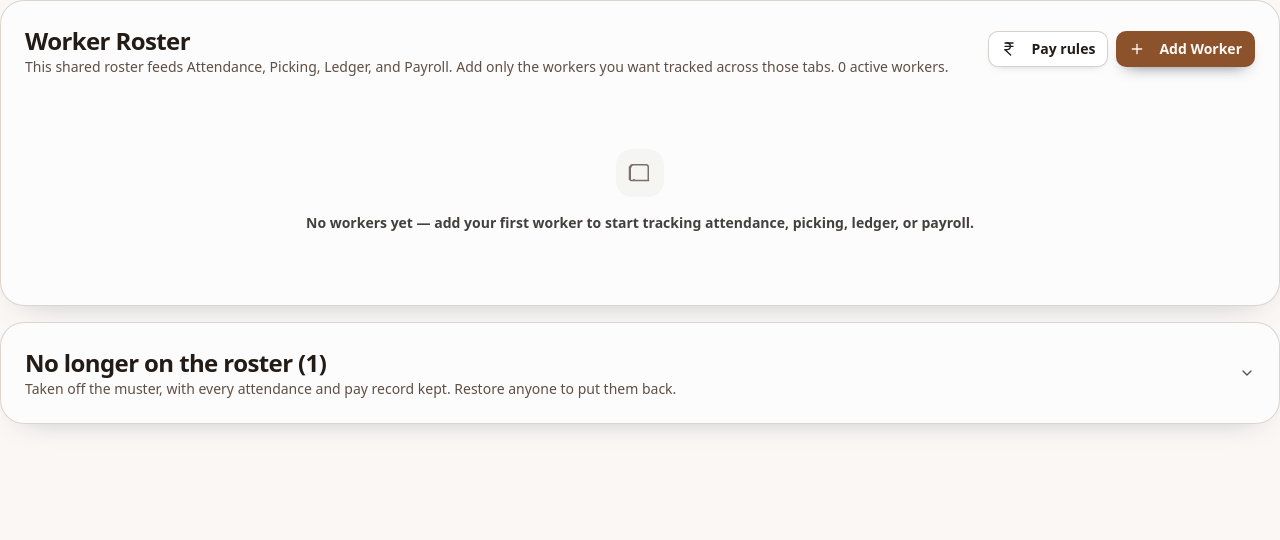
Test case: a worker taken off the roster can be found and put back › refuses the restore when that name is already back on the roster
Step 1. Click the button "No longer on the roster" → [165, 362], box x1=25 y1=347 x2=1255 y2=399
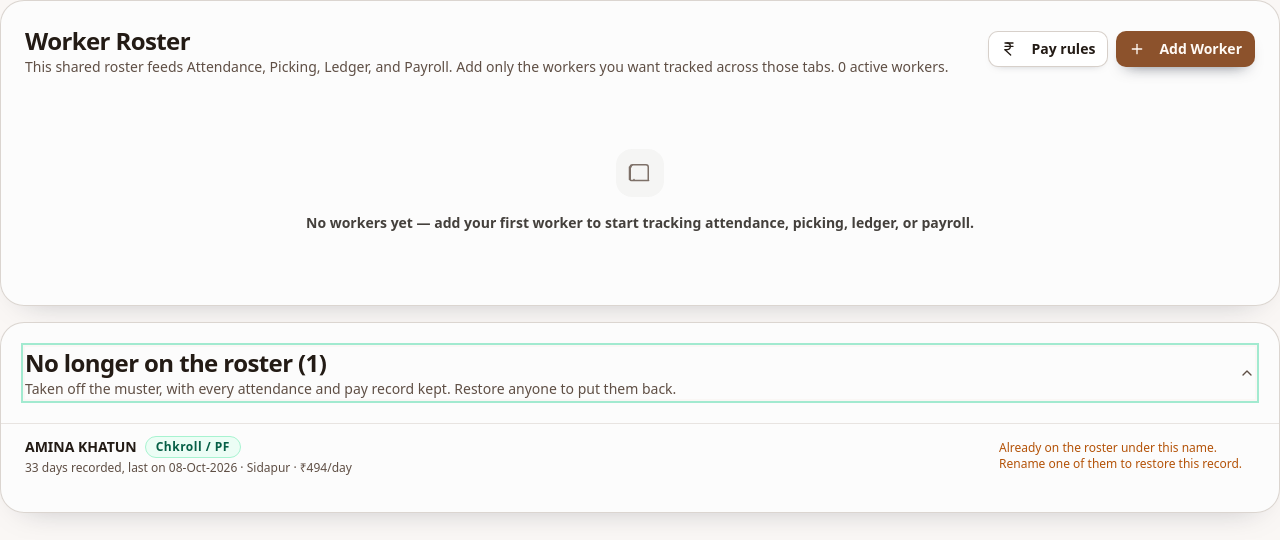
Expected: the text "Already on the roster under this name" is shown, x1=999 y1=439 x2=1242 y2=472
